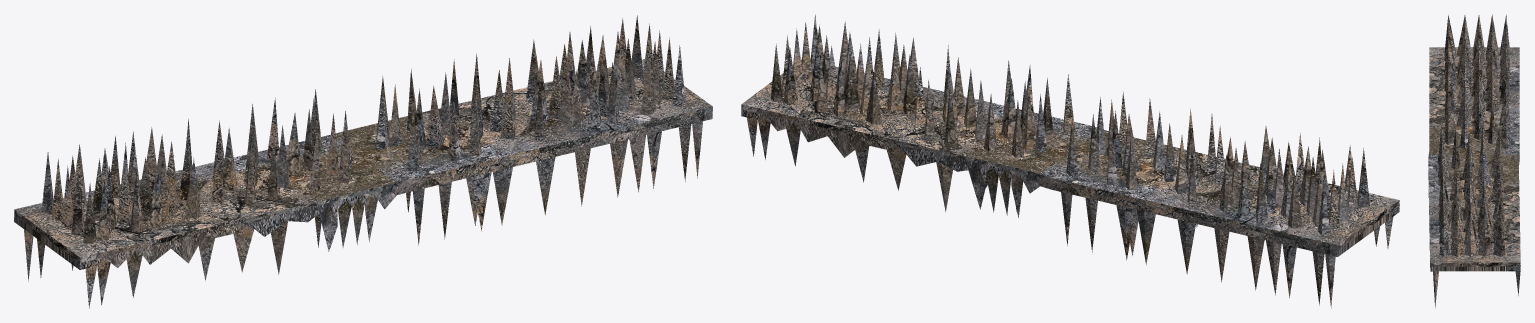
File: spike_2.fbx
The picture shows the model from 3 angles, left to right: view 1: azimuth 30°, elevation 25°; view 2: azimuth 150°, elevation 25°; view 3: azimuth 270°, elevation 25°; orthographic projection. The views are drawn at different scales.
Visible parts, largest first — view 1: headusOBJexport120; view 2: headusOBJexport120; view 3: headusOBJexport120.
Boxes of the visible parts, x1,y1,x2,y2 form: headusOBJexport120: (14,15,712,308); headusOBJexport120: (741,14,1399,308); headusOBJexport120: (1428,14,1520,307).
Size of the model in its own units: 497 by 102 by 91.22.
